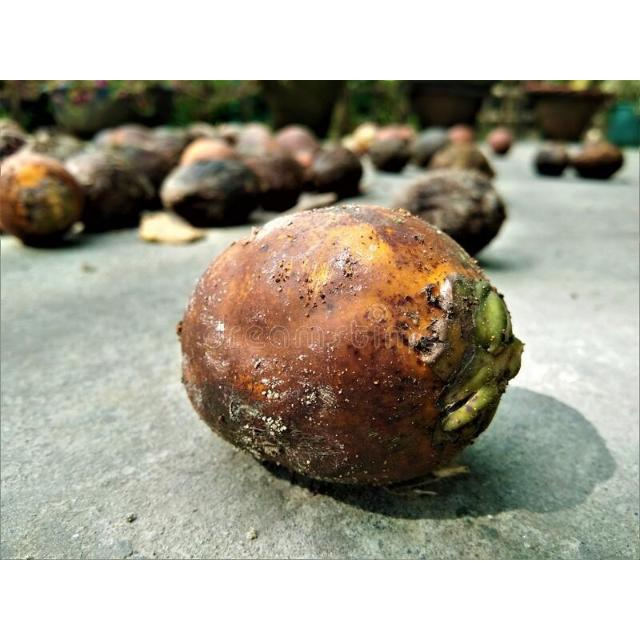damaged: (178, 206, 523, 485)
